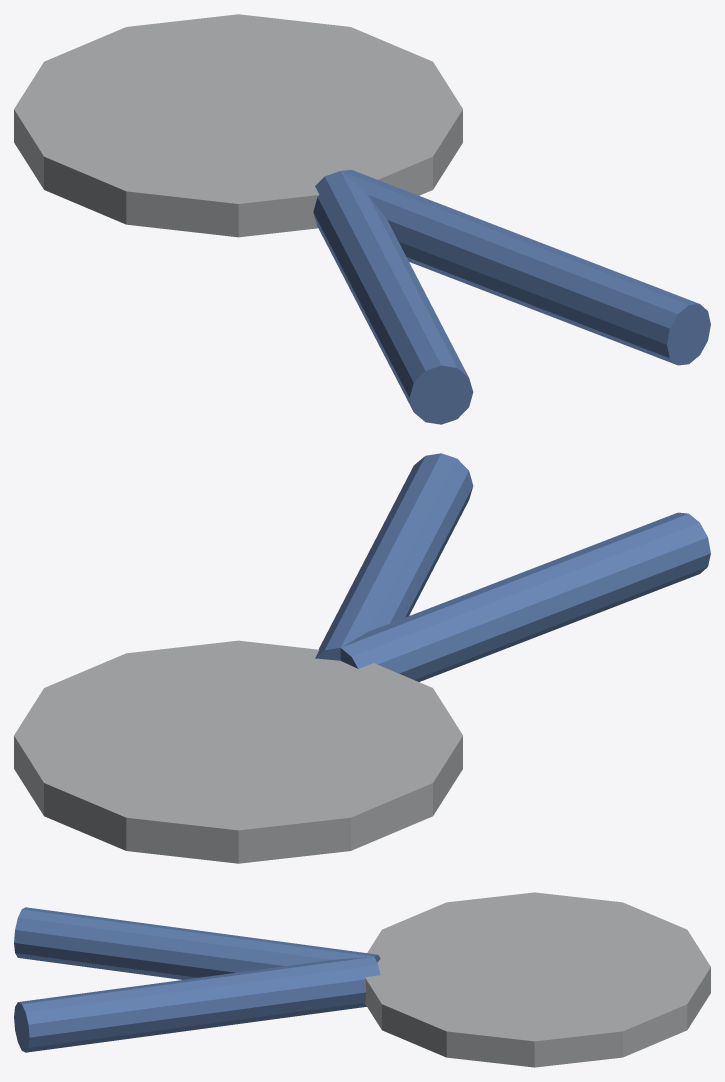
3 views of the same model, one above another, from view 1: azimuth 30°, elevation 25°; view 2: azimuth 150°, elevation 25°; view 3: azimuth 270°, elevation 25° (orthographic). The views are drawn at different scales.
Visible parts, largest first — view 1: geometry_0; view 2: geometry_0; view 3: geometry_0.
Part boxes in pixels (bbox=[...]): geometry_0: bbox=[14, 14, 710, 424]; geometry_0: bbox=[14, 453, 710, 863]; geometry_0: bbox=[14, 892, 710, 1067].
Bounding box in the file's own units: 0.11 × 0.02 × 0.2174.
